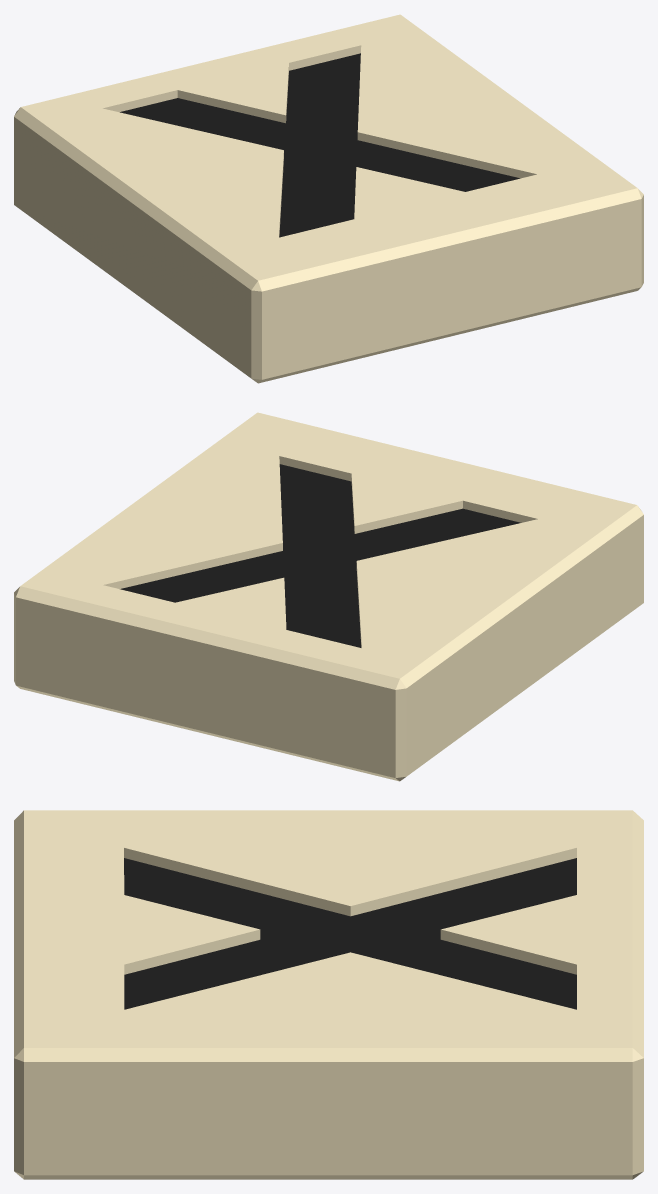
The model's file is Boardgame_Piece_Anagram_Letter_X_01.fbx.
3 renders of one model, top to bottom at view 1: azimuth 30°, elevation 25°; view 2: azimuth 150°, elevation 25°; view 3: azimuth 270°, elevation 25°, orthographic. The views are drawn at different scales.
Visible parts, largest first — view 1: Boardgame_Piece_Anagram_Letter_X_01; view 2: Boardgame_Piece_Anagram_Letter_X_01; view 3: Boardgame_Piece_Anagram_Letter_X_01.
Boxes of the visible parts, <box> form: Boardgame_Piece_Anagram_Letter_X_01: <box>14,14,643,383</box>; Boardgame_Piece_Anagram_Letter_X_01: <box>14,412,643,781</box>; Boardgame_Piece_Anagram_Letter_X_01: <box>14,810,643,1179</box>.
Bounding box in the file's own units: 39.37 × 9.84 × 42.65.
